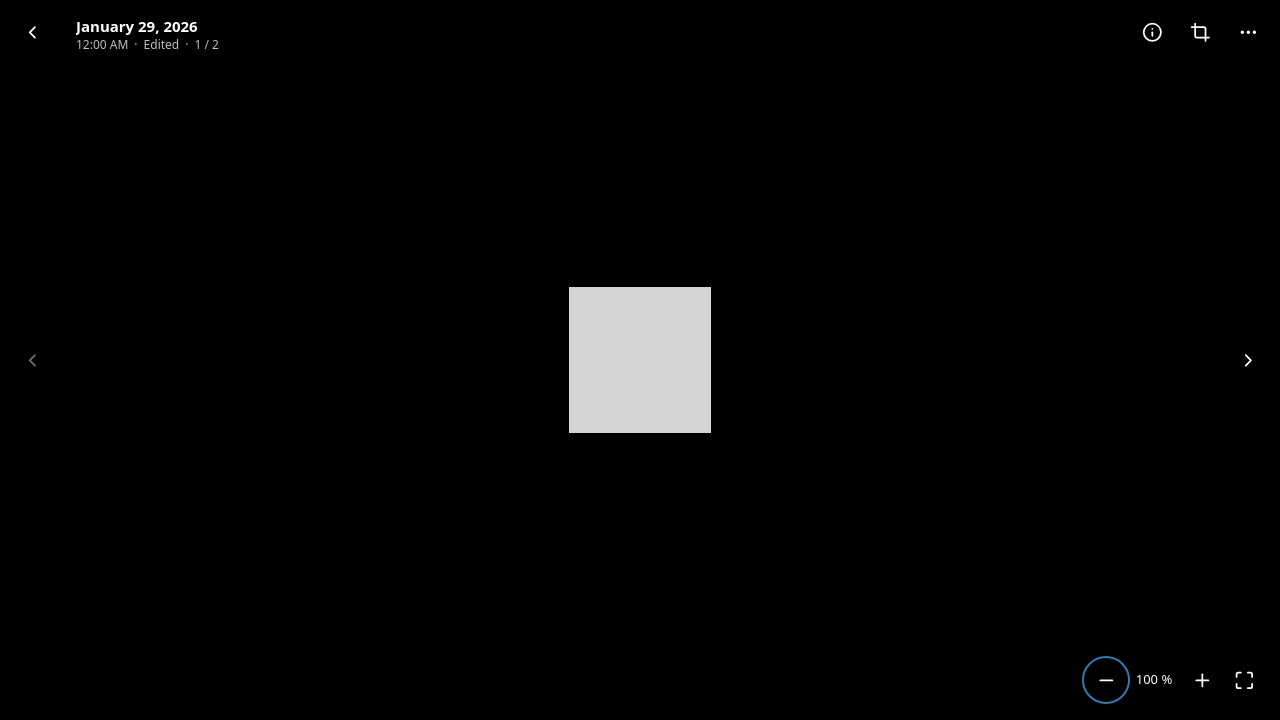
Scenario: downloading the edited photo › says so when the edited photo cannot be prepared
Click the button named "More" at (1248,32), box [1228, 12, 1268, 52]
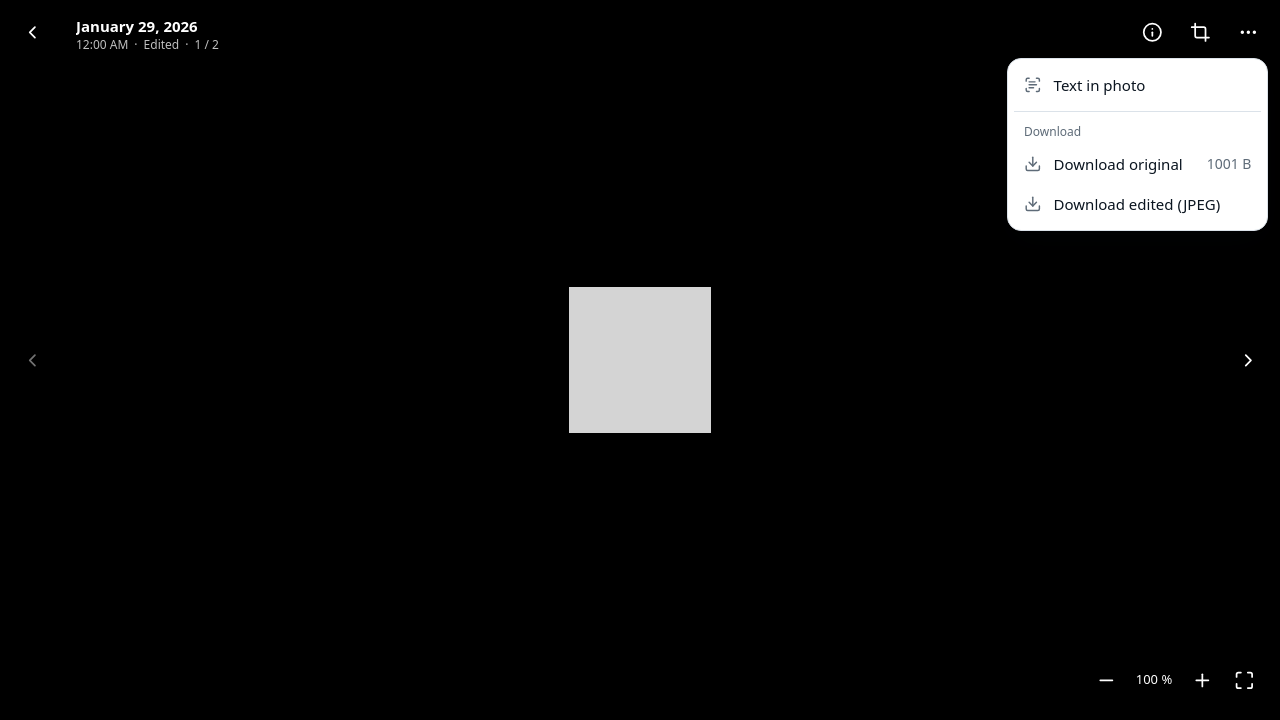
Click the menu item "Download edited (JPEG)" at (1122,204), box [1024, 194, 1220, 214]
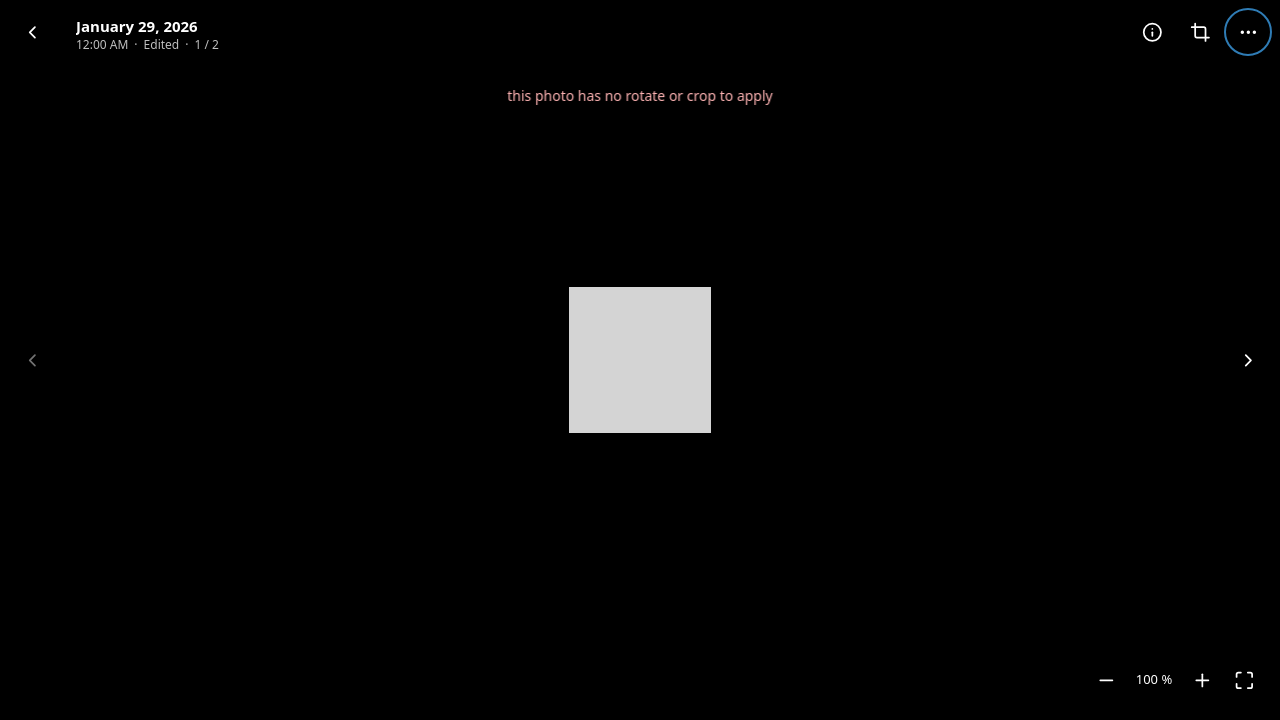
Expected: the message shows "no rotate or crop", [507, 86, 773, 105]
